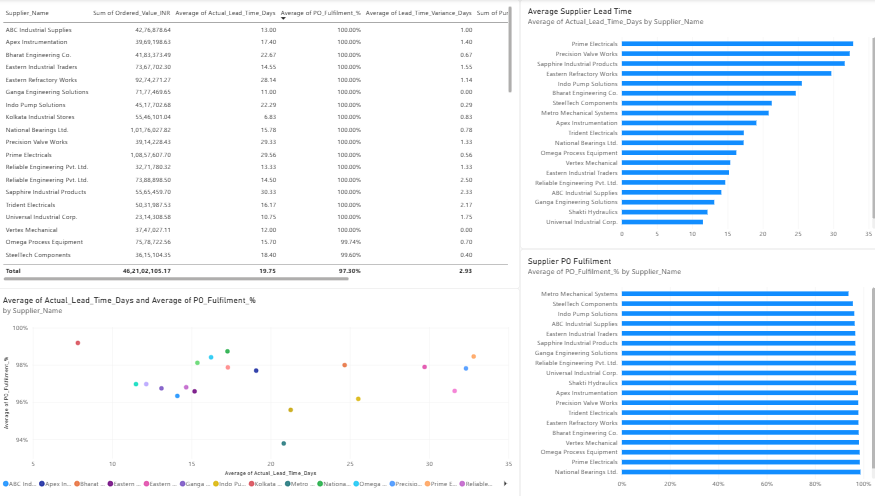

The page's visual inventory and layout, read from the dashboard file:
{"tool":"powerbi","page":{"name":"Supplier Performance","canvas":[1920,1080],"ordinal":1},"visuals":[{"type":"clusteredBarChart","title":"Average Supplier Lead Time","fields":{"Category":["ProcurementAnalysis.Supplier_Name"],"Y":["Avg(ProcurementAnalysis.Actual_Lead_Time_Days)"]},"box":[1134,0,786,540],"z":0},{"type":"barChart","title":"Supplier PO Fulfilment","fields":{"Category":["ProcurementAnalysis.Supplier_Name"],"Y":["Avg(ProcurementAnalysis.PO_Fulfilment_%)"]},"box":[1135,540,785,540],"z":1000},{"type":"tableEx","fields":{"Values":["ProcurementAnalysis.Supplier_Name","Sum(ProcurementAnalysis.Ordered_Value_INR)","Avg(ProcurementAnalysis.Actual_Lead_Time_Days)","Avg(ProcurementAnalysis.PO_Fulfilment_%)","Avg(ProcurementAnalysis.Lead_Time_Variance_Days)","Sum(ProcurementAnalysis.Purchase_Price_Variance_INR)","Sum(ProcurementAnalysis.Working_Capital_Exposure_INR)","ProcurementAnalysis.Process_Risk"]},"box":[0,0,1134,626],"z":2000},{"type":"scatterChart","fields":{"Series":["ProcurementAnalysis.Supplier_Name"],"X":["Avg(ProcurementAnalysis.Actual_Lead_Time_Days)"],"Y":["Avg(ProcurementAnalysis.PO_Fulfilment_%)"]},"box":[0,625,1134,454],"z":3000}]}

Visuals, with their boxes in screenshot pixels (x1, y1, x2, y2), scaled from the page's 1920x1080 canvas onto the 875x496 screenshot:
"Average Supplier Lead Time" clusteredBarChart: bbox=(517, 0, 874, 248)
"Supplier PO Fulfilment" barChart: bbox=(517, 248, 874, 495)
tableEx - ProcurementAnalysis.Supplier_Name x Sum(ProcurementAnalysis.Ordered_Value_INR): bbox=(0, 0, 517, 287)
scatterChart - ProcurementAnalysis.Supplier_Name x Avg(ProcurementAnalysis.Actual_Lead_Time_Days): bbox=(0, 287, 517, 495)
